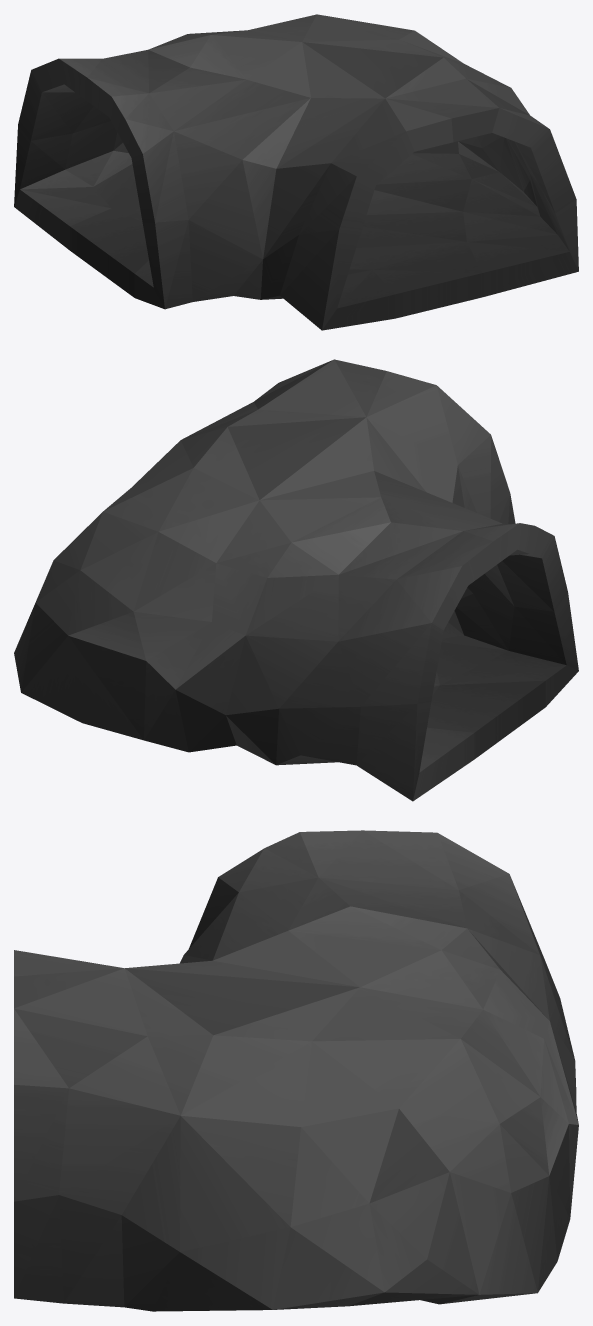
Rendered from GL-Cave-part-06-LOD2.fbx.
The picture shows the model from 3 angles, top to bottom: view 1: azimuth 30°, elevation 25°; view 2: azimuth 150°, elevation 25°; view 3: azimuth 270°, elevation 25°; orthographic projection. The views are drawn at different scales.
Parts seen in each view (by area): view 1: GL_Cave_part_06; view 2: GL_Cave_part_06; view 3: GL_Cave_part_06.
Boxes of the visible parts, box(x1,y1,x2,y2) form: GL_Cave_part_06: box(14, 14, 578, 330); GL_Cave_part_06: box(14, 359, 578, 801); GL_Cave_part_06: box(14, 830, 578, 1311).
Size of the model in its own units: 5.18 by 2.3 by 4.83.
